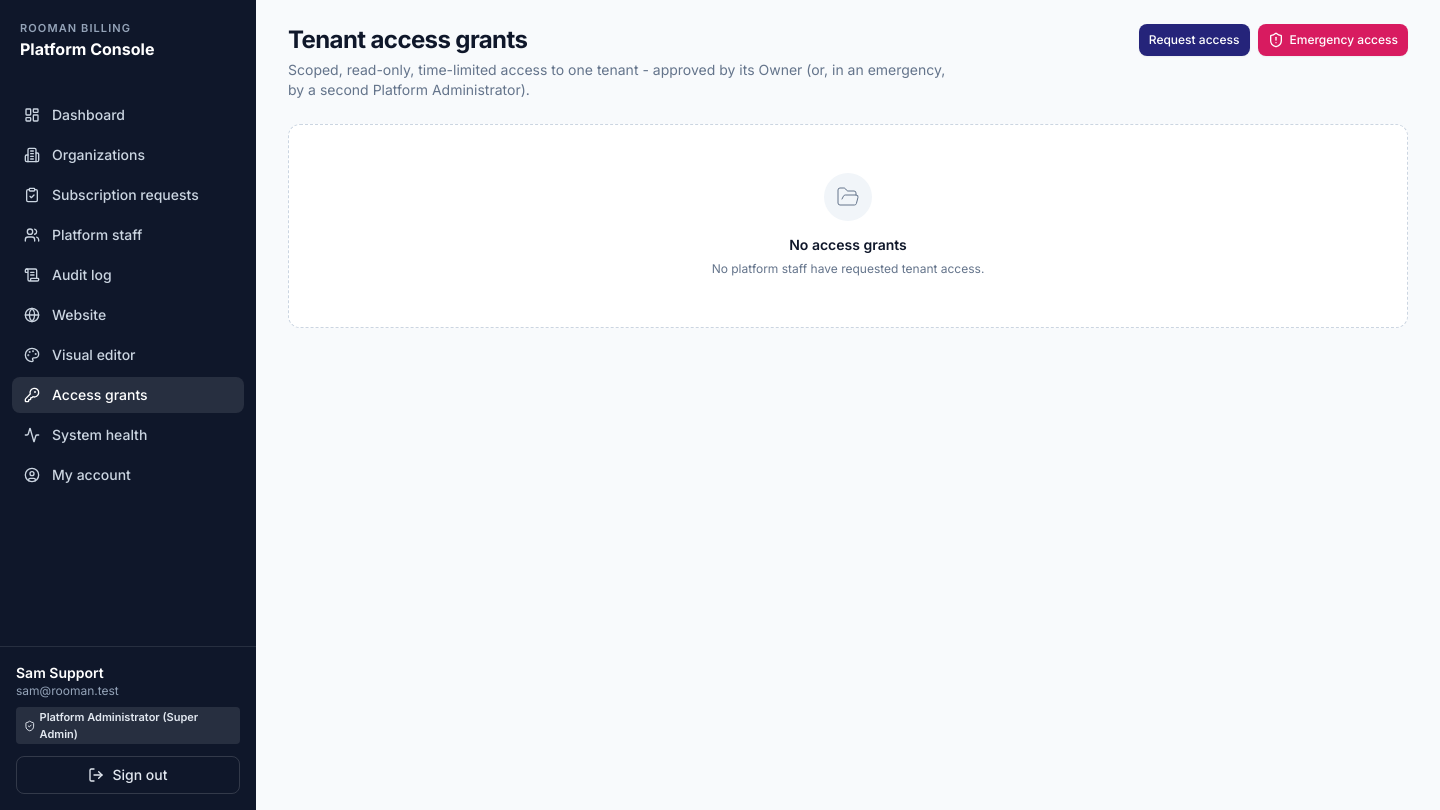
Scenario: tenant access grants in the console › caps emergency requests at 60 minutes in the form
The width and height of the screenshot is (1440, 810).
Click the button "Emergency access" at (1333, 40), box [1258,24,1408,56]
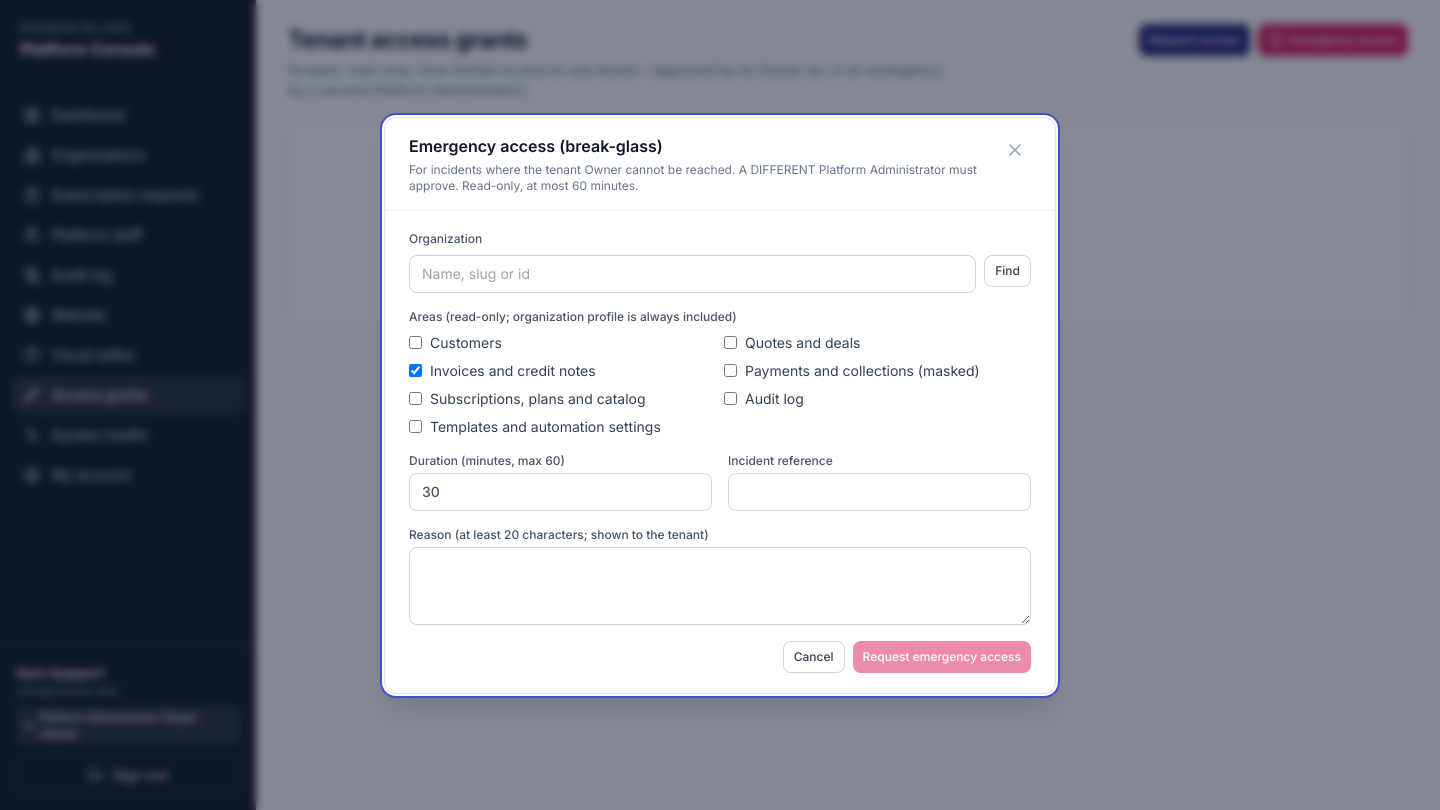
Expected: the text "A DIFFERENT Platform Administrator must approve" is shown, [409,162,977,192]
